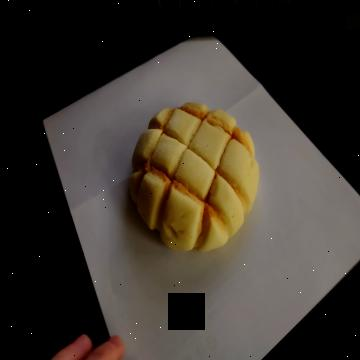melon_bread: (128, 101, 258, 251)
